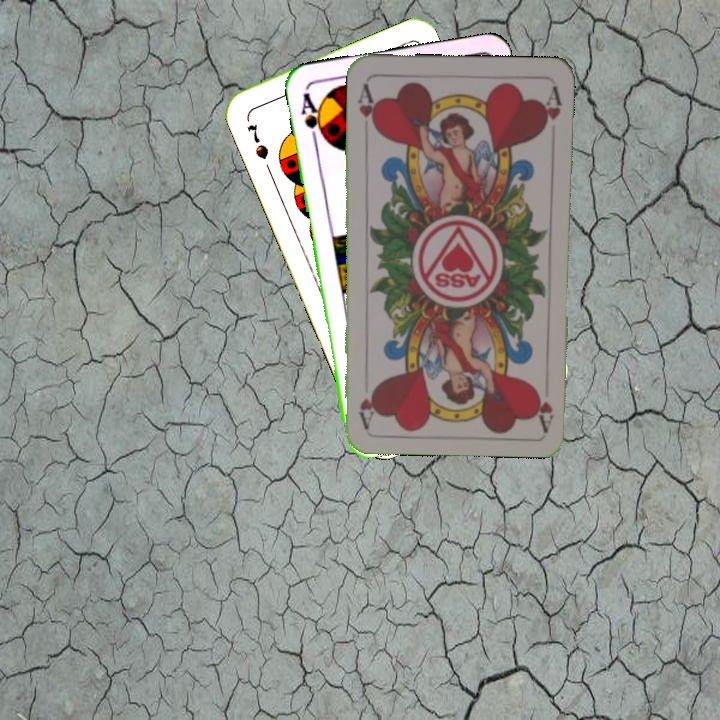HA: (354, 79, 380, 136), (532, 384, 556, 431)
S7: (243, 120, 271, 162)
SA: (297, 89, 328, 146)
